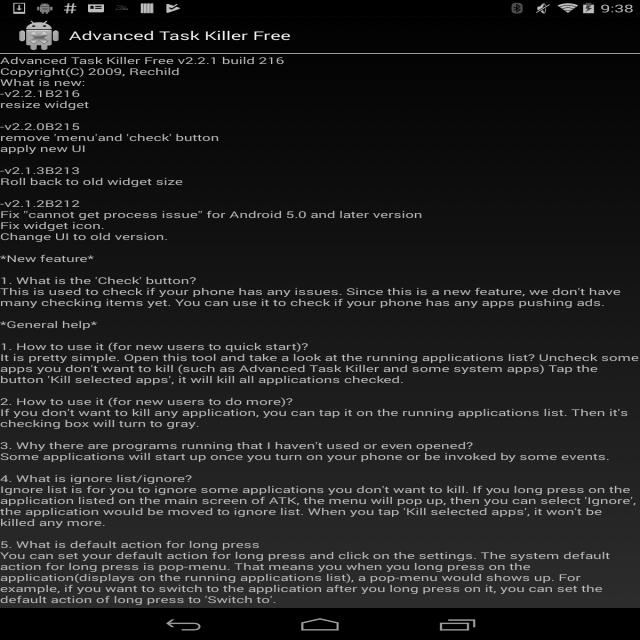ImageView: (13, 22, 60, 52)
TextView: (11, 539, 624, 603), (9, 477, 580, 529), (13, 342, 620, 388), (18, 274, 617, 313), (5, 196, 422, 241), (17, 440, 610, 466), (14, 58, 281, 77), (66, 28, 296, 44)
